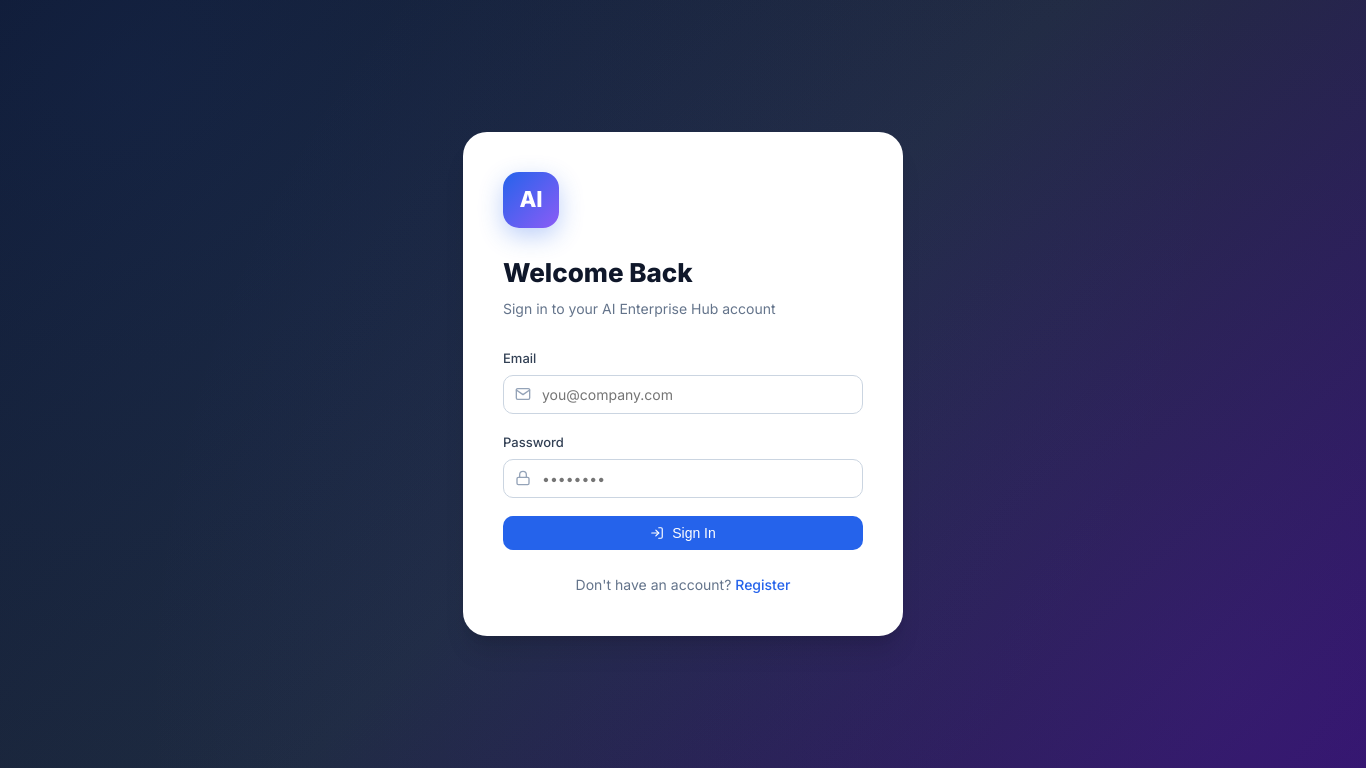
Test case: Authentication › should validate email format
In the field named "Email": (683, 394) [503,375,863,414], type "invalid-email"
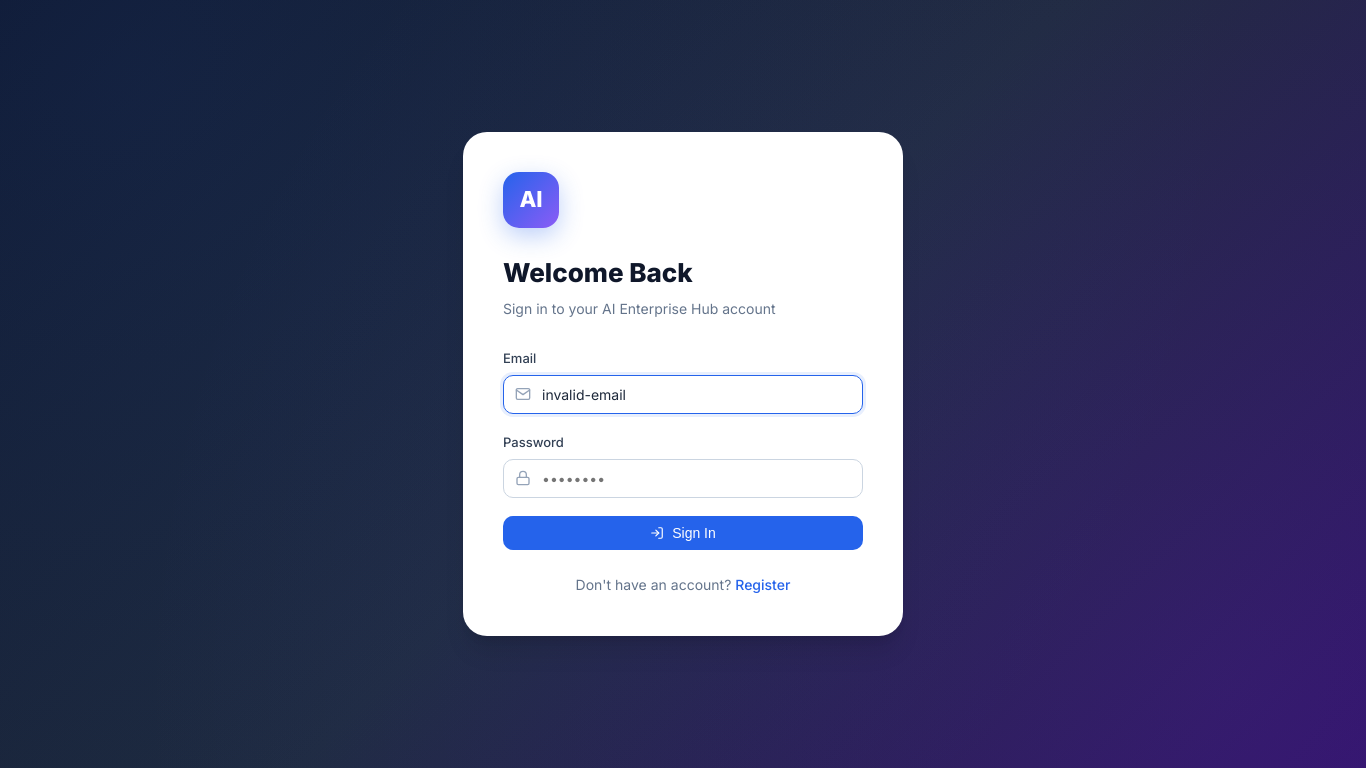
In the password field named "Password": (683, 478) [503,459,863,498], type "password123"
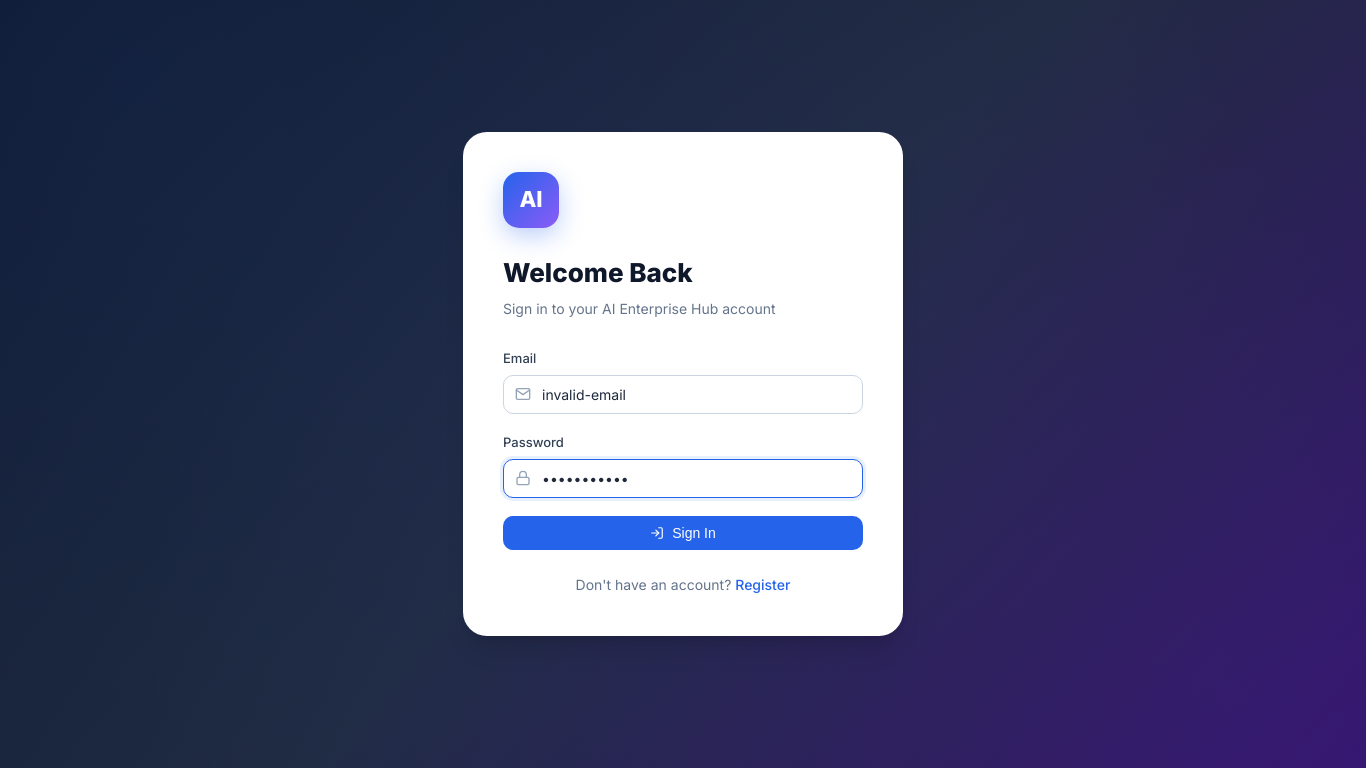
Click the button "Sign In": (683, 533) [503,516,863,550]
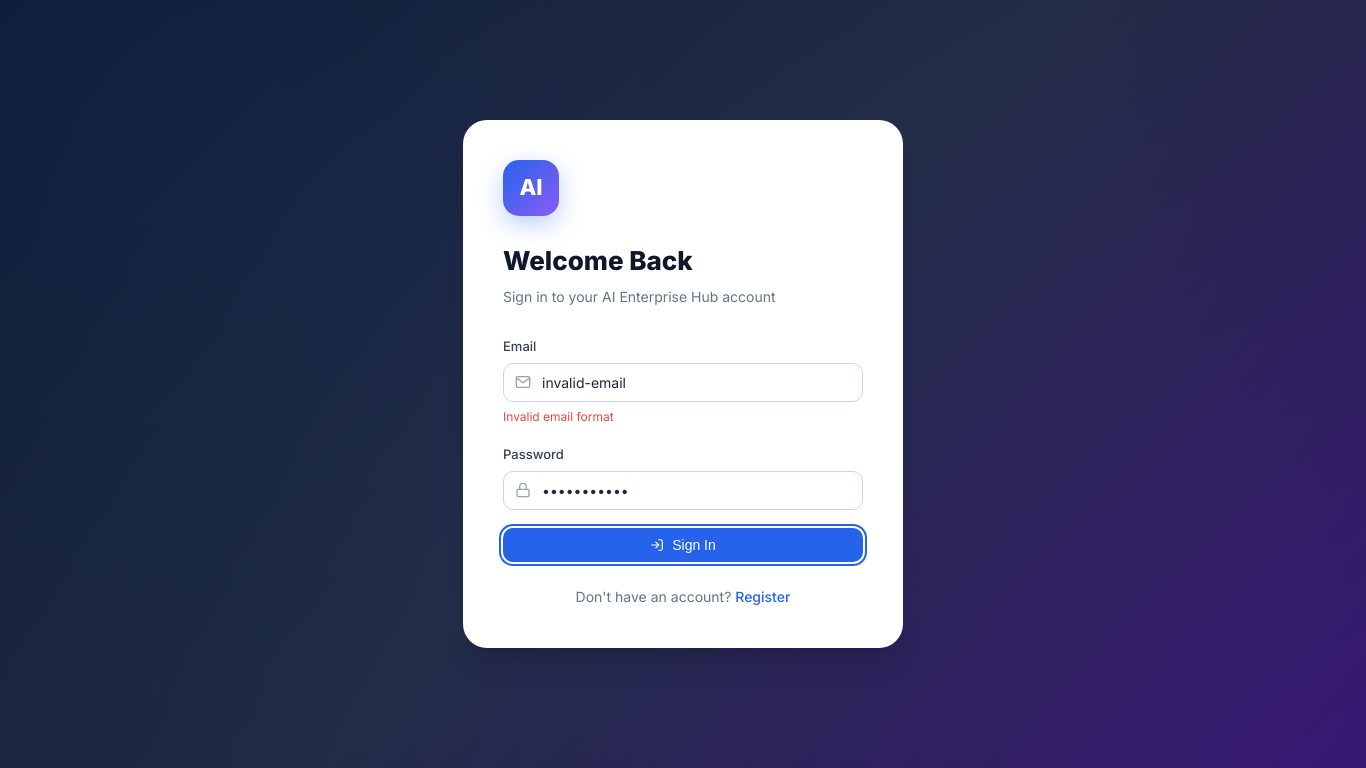
Expected: the text "Invalid email format" is shown, [503,409,614,424]
